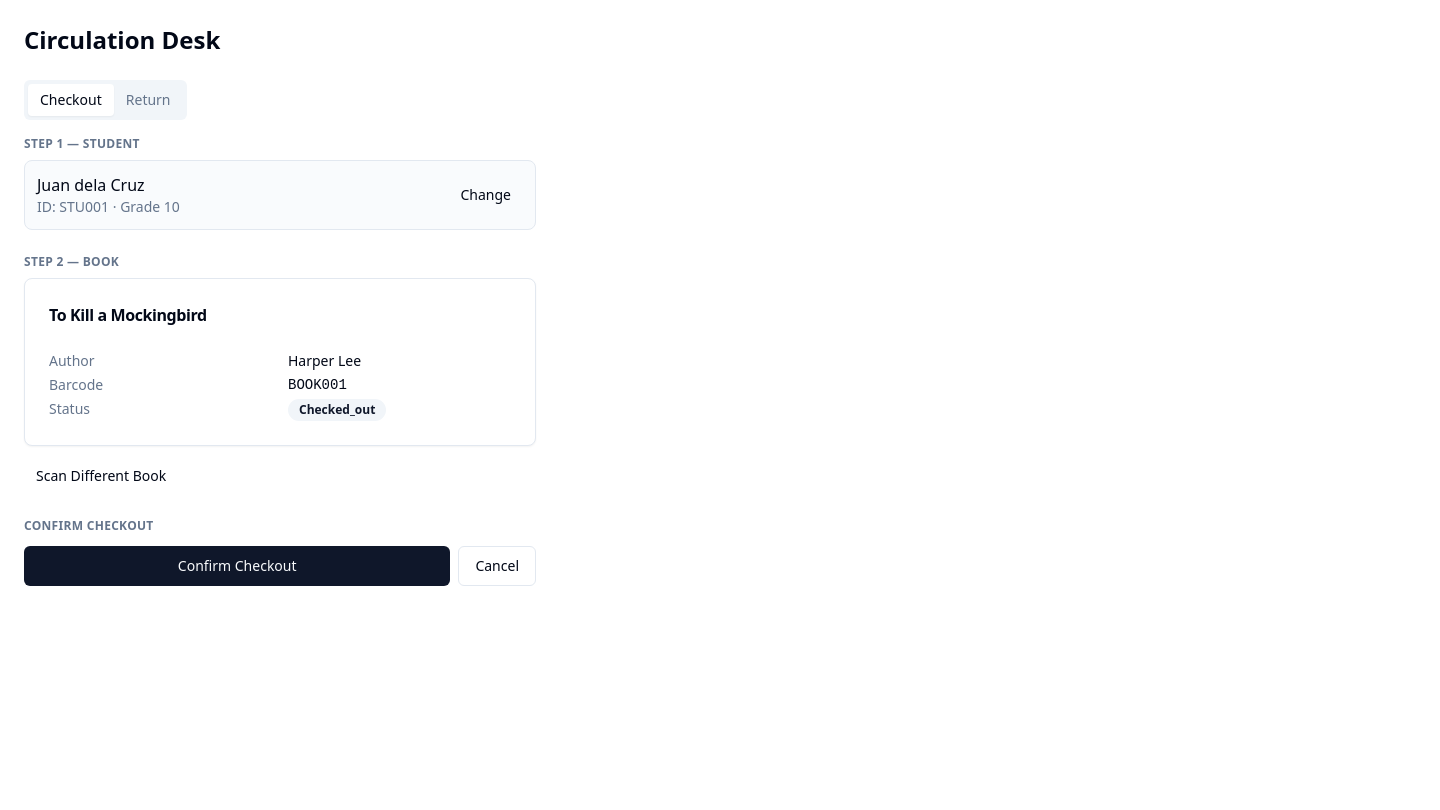
it: CheckoutTab › full checkout flow: student → book → confirm → success
Expected: the text "Juan dela Cruz" is shown, [37, 174, 144, 196]
Expected: the text "To Kill a Mockingbird" is shown, [49, 304, 207, 326]
Step 1. Click the button "Confirm Checkout" → {"x": 237, "y": 566}, box [24, 546, 450, 586]
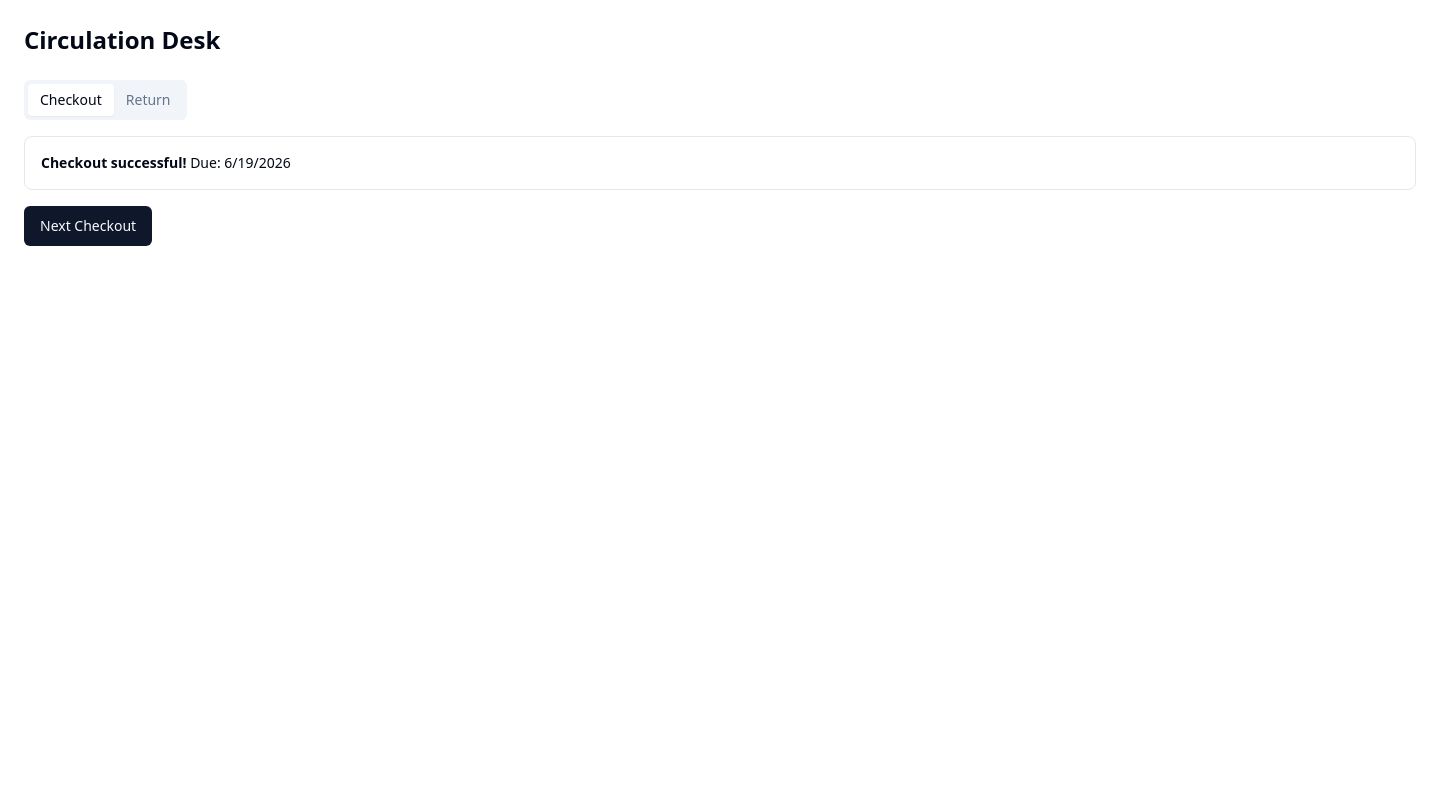
Expected: the text "Checkout successful!" is shown, [41, 153, 186, 172]
